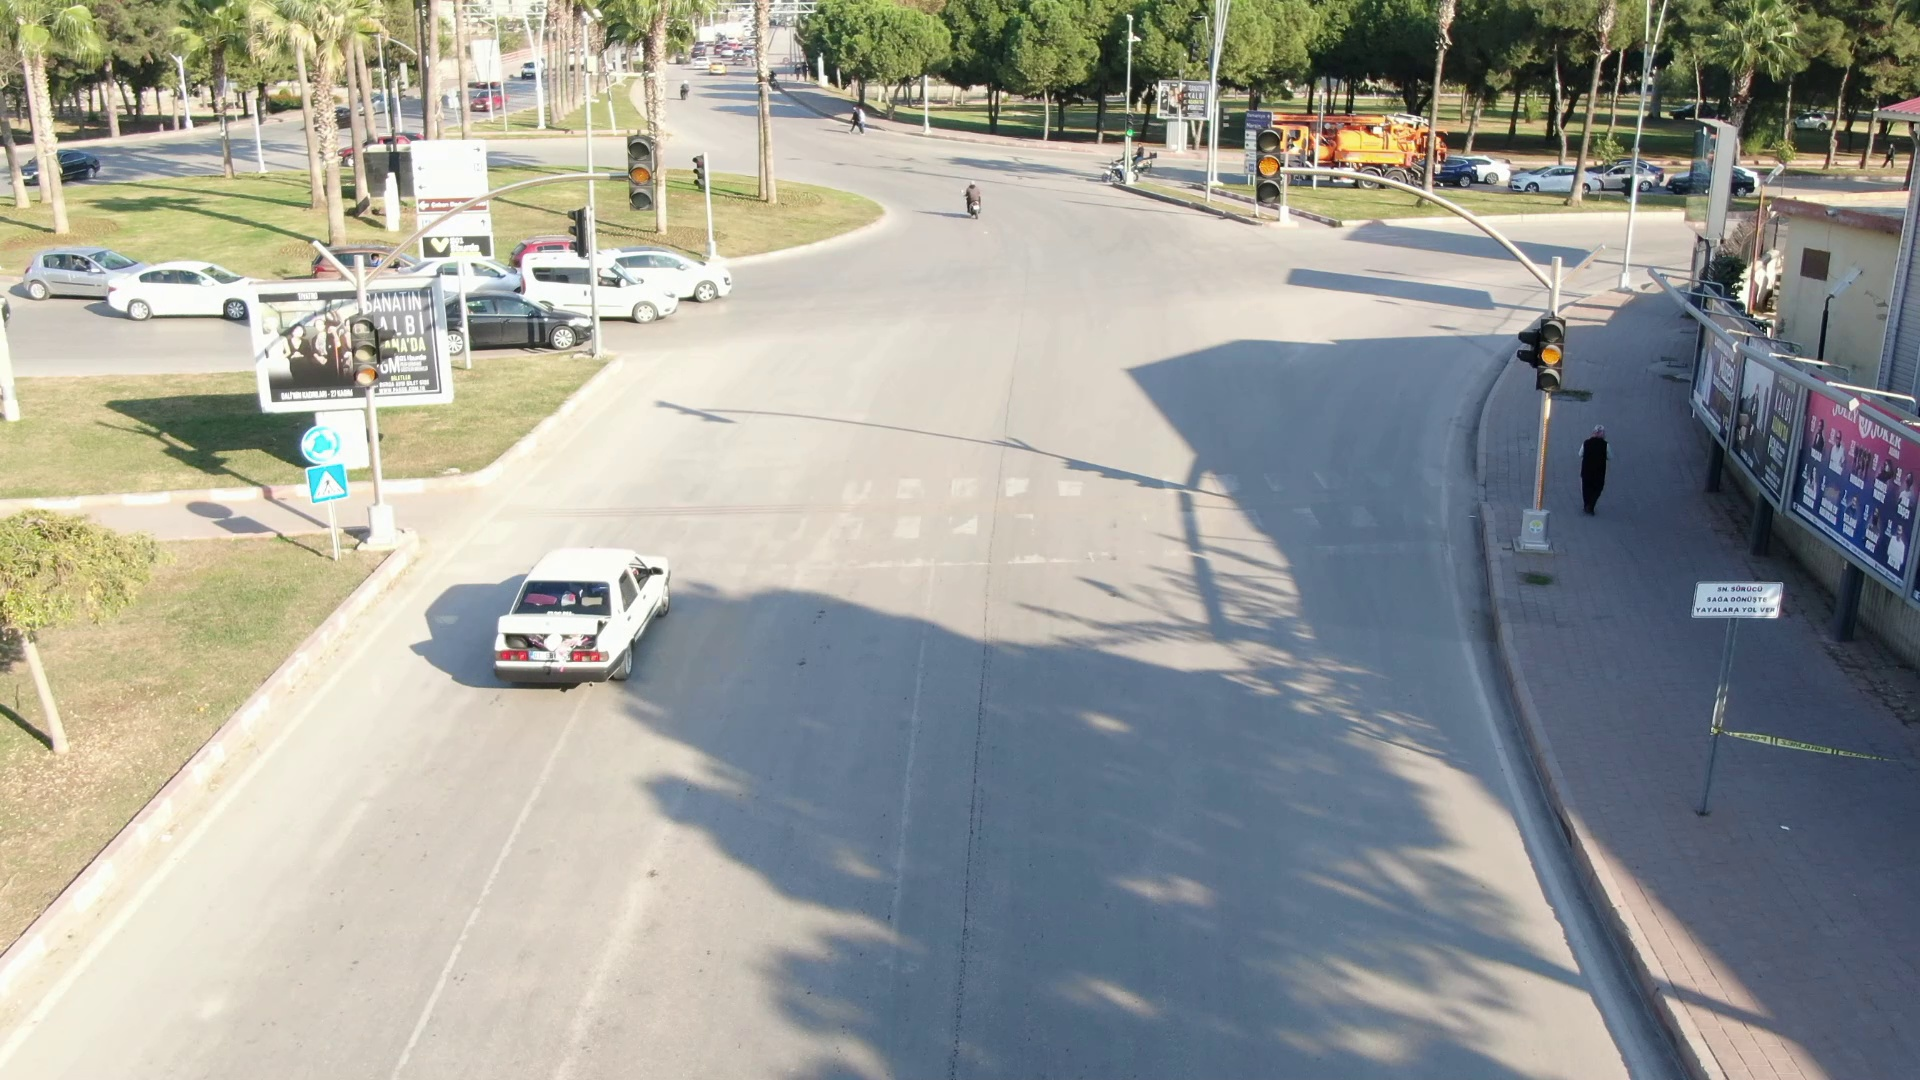car: (449, 551, 702, 712), (570, 241, 751, 312), (417, 284, 633, 343), (515, 255, 668, 329), (100, 257, 255, 323), (21, 237, 139, 300)
person: (1576, 413, 1619, 517), (949, 182, 990, 229)
